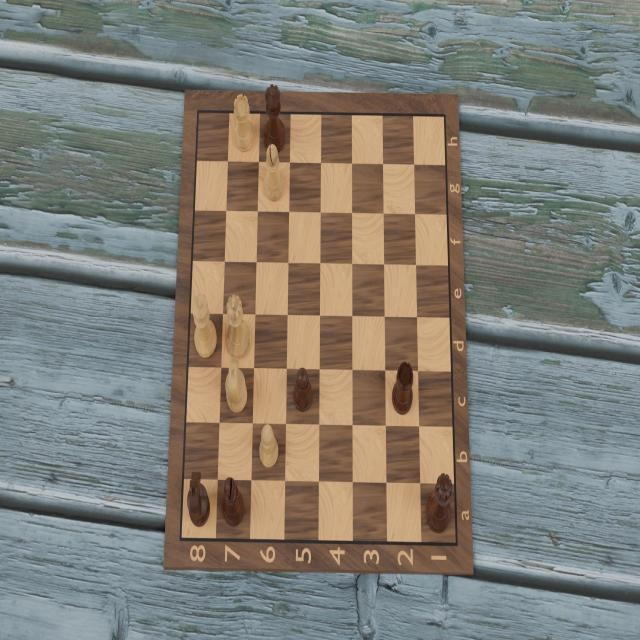black-bishop: (219, 473, 247, 530)
black-king: (422, 470, 453, 537)
black-knight: (184, 468, 211, 531)
black-pawn: (290, 365, 314, 414)
black-queen: (261, 83, 287, 153)
black-rook: (388, 359, 415, 417)
white-bishop: (261, 144, 284, 204)
white-king: (221, 291, 251, 361)
white-knight: (224, 353, 252, 415)
white-pawn: (255, 421, 280, 471)
white-queen: (191, 291, 219, 360)
white-rook: (231, 91, 256, 157)
